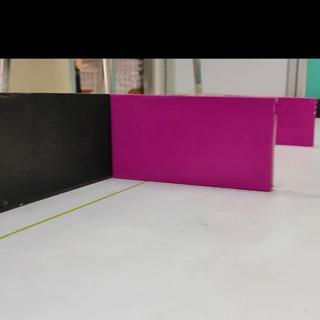xparking: (113, 97, 275, 189), (278, 97, 316, 146)
